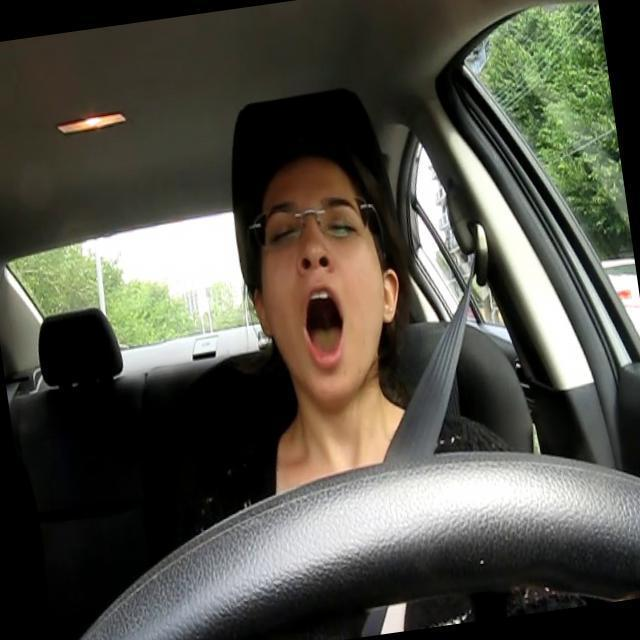open-mouth: (304, 286, 346, 366)
